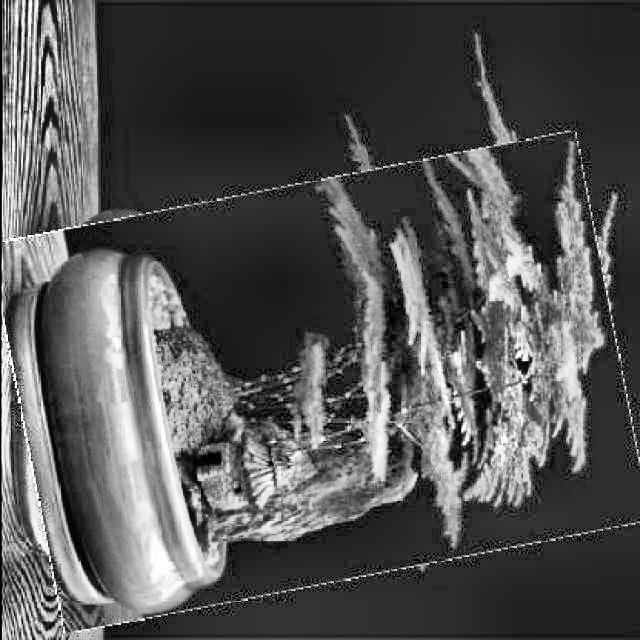plants: (4, 158, 634, 607)
